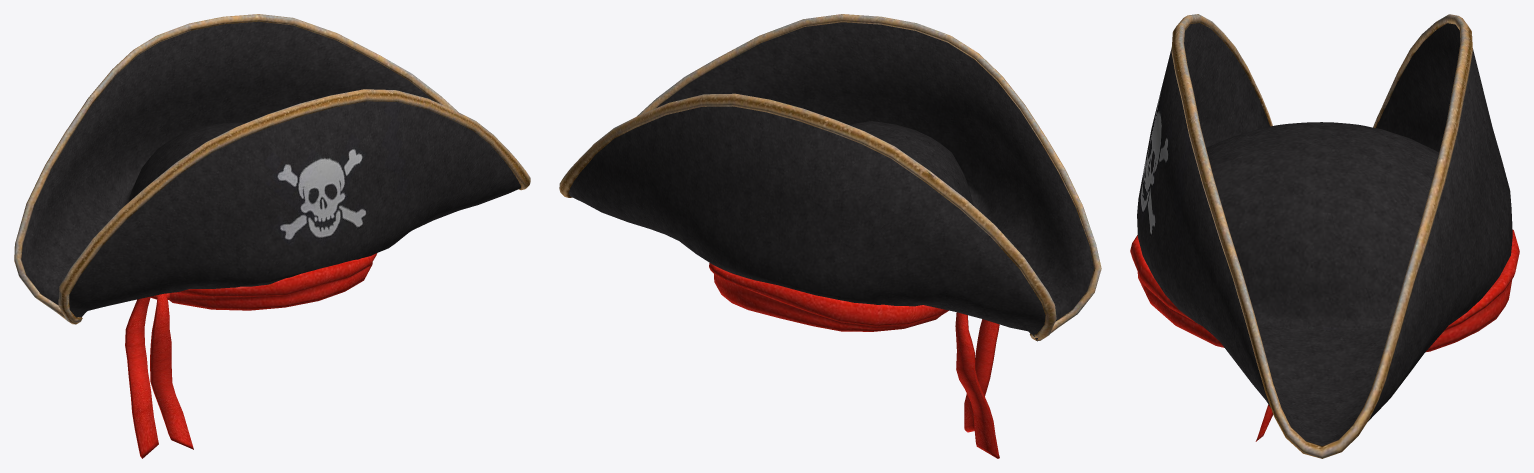
Rendered from Pirate.glb.
3 renders of one model, left to right at view 1: azimuth 30°, elevation 25°; view 2: azimuth 150°, elevation 25°; view 3: azimuth 270°, elevation 25°, orthographic. The views are drawn at different scales.
Visible parts, largest first — view 1: Pirate; view 2: Pirate; view 3: Pirate.
Part boxes in pixels (left/top/right/bottom): Pirate: left=14, top=14, right=530, bottom=458; Pirate: left=559, top=14, right=1101, bottom=458; Pirate: left=1130, top=14, right=1519, bottom=458.
Size of the model in its own units: 2.09 by 1.45 by 1.11.
Materials: 1 (1 with a texture image).
